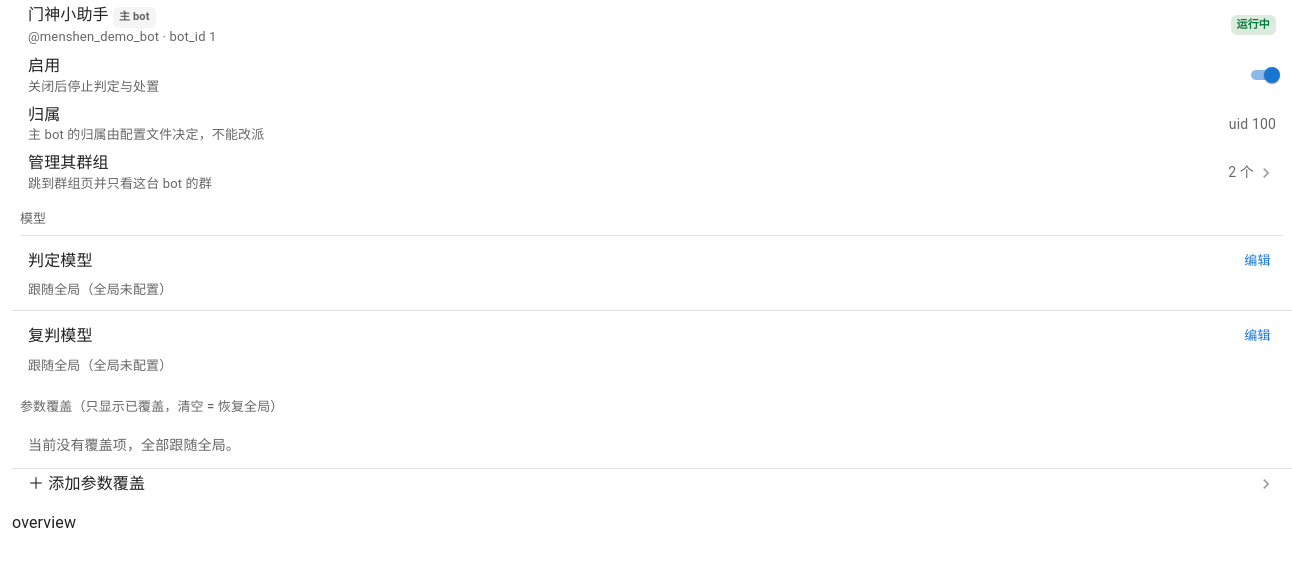
Test case: BotDetailPage › 主 bot：显示徽标、不改派、无移除入口；「管理其群组」带 bot 意图切群组页
The width and height of the screenshot is (1292, 572).
Expected: the text "主 bot" is shown, [113,7,156,28]
Expected: the text "主 bot 的归属由配置文件决定，不能改派" is shown, [28,127,264,142]
Click the text "管理其群组": [68, 163] box [28,154,109,172]
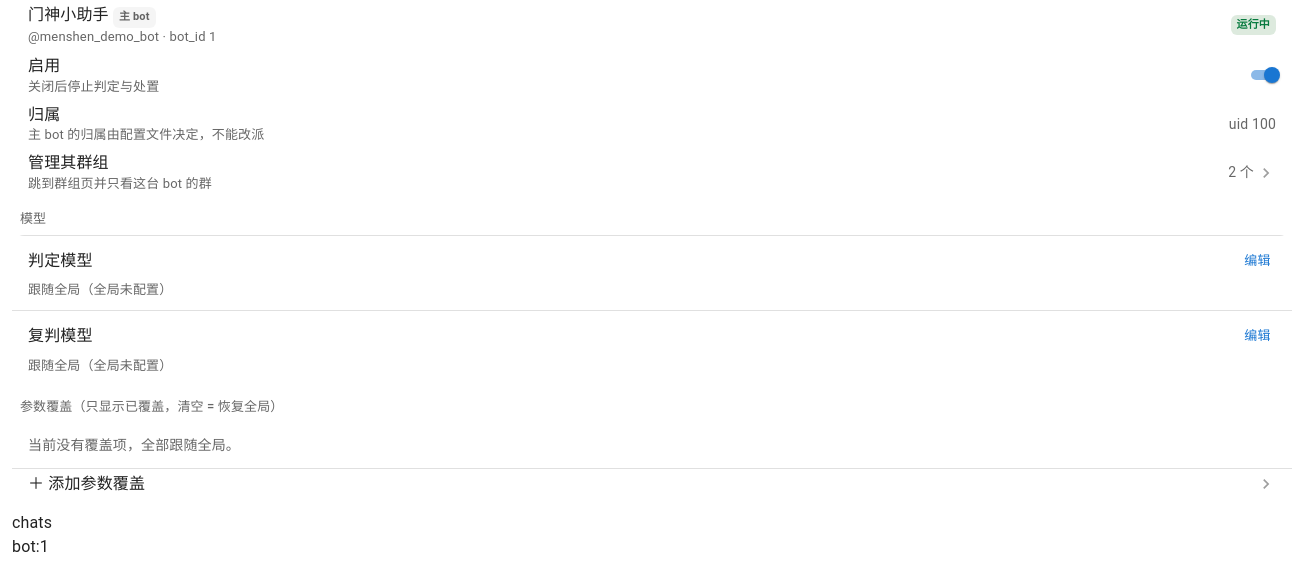
Expected: the text with test id "nav-tab" reads "chats", [12,513,52,532]
Expected: the text with test id "nav-intent" reads "bot:1", [12,537,49,556]
